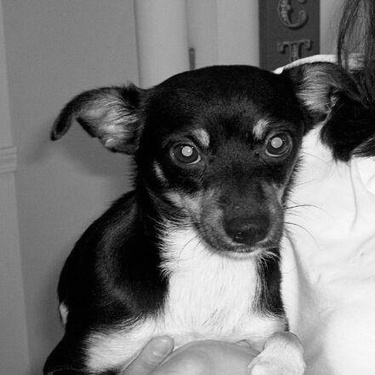dog: (41, 52, 368, 374)
